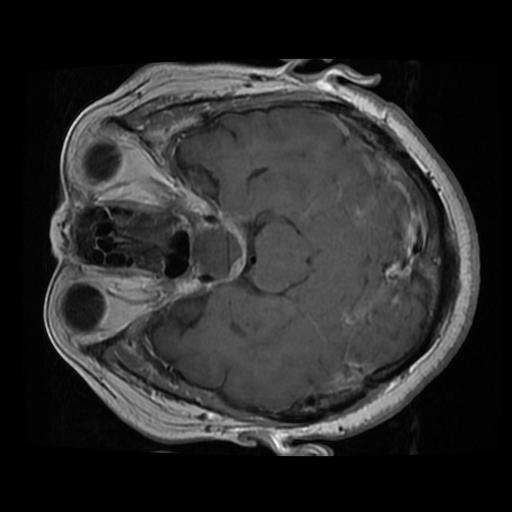pituitary tumour: (187, 222, 246, 281)
